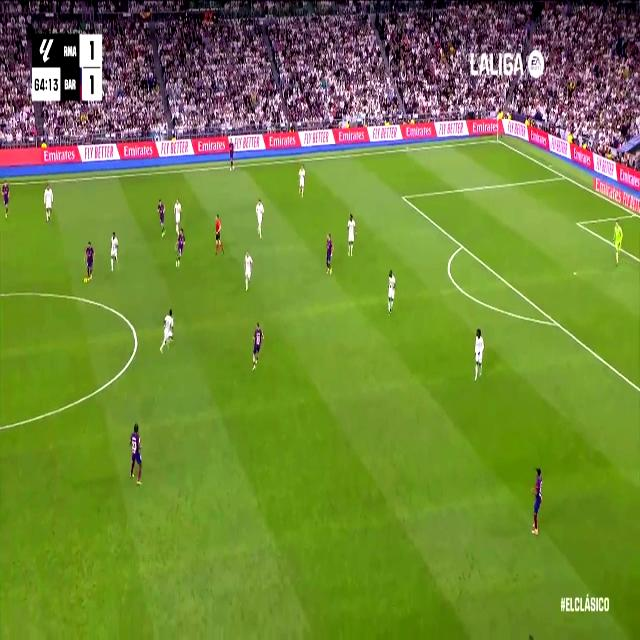bigarea_top_inner: (399, 189, 407, 204)
bigarea_top_outter: (560, 169, 568, 182)
bottom_arc_area_intersection: (552, 313, 562, 332)
corner: (494, 134, 502, 145)
smallarea_top_inner: (574, 217, 580, 229)
top_arc_area_intersection: (458, 238, 466, 254)
